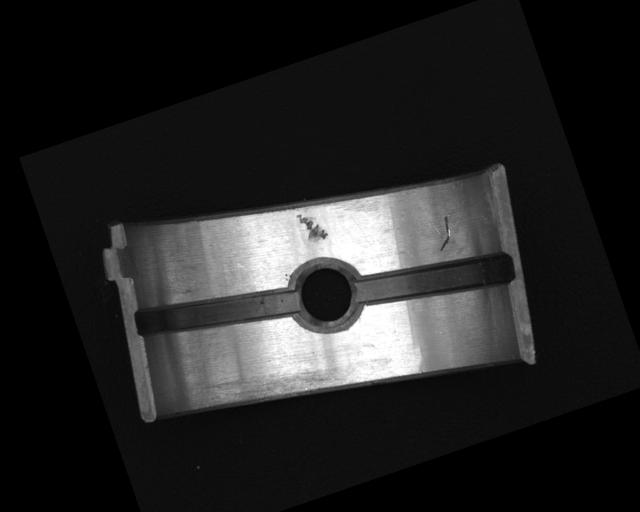bruise: (295, 207, 329, 247)
gap: (131, 261, 301, 363), (351, 231, 517, 330)
hole: (282, 251, 370, 340)
nick: (430, 214, 458, 251)
scratch: (205, 342, 347, 427)
